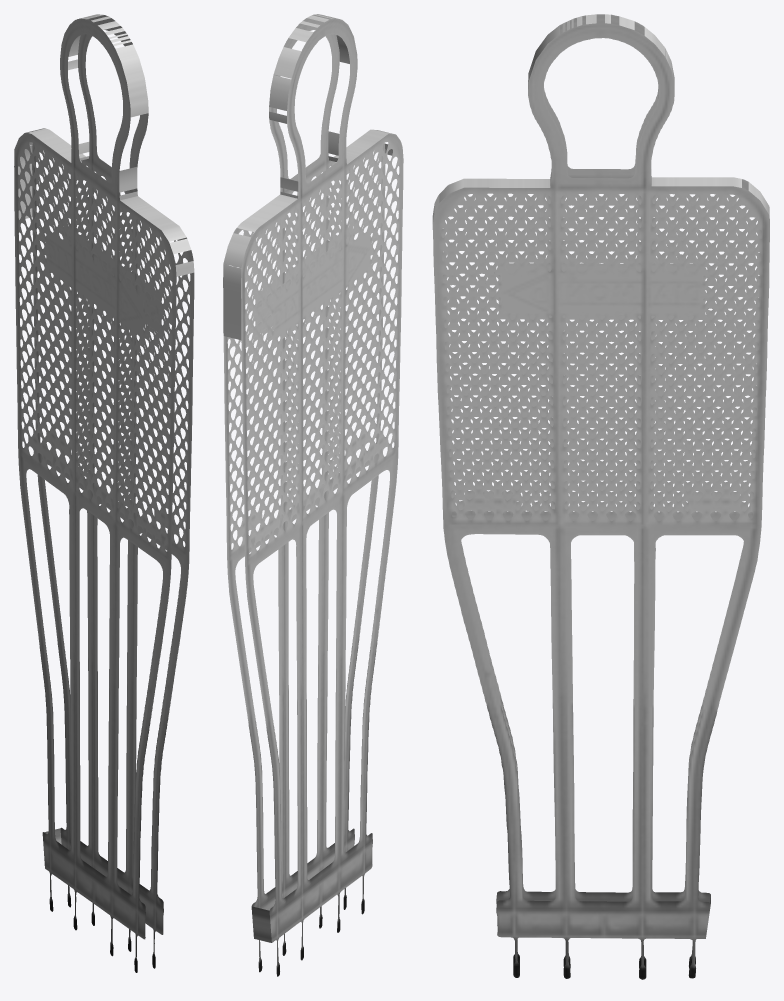
File: Mannequin.fbx
3 views of the same model, side by side, from view 1: azimuth 30°, elevation 25°; view 2: azimuth 150°, elevation 25°; view 3: azimuth 270°, elevation 25° (orthographic). The views are drawn at different scales.
Visible parts, largest first — view 1: pPlane1; view 2: pPlane1; view 3: pPlane1.
Part boxes in pixels (<box>): pPlane1: <box>14,14,194,972</box>; pPlane1: <box>223,14,403,976</box>; pPlane1: <box>432,14,769,979</box>.
Bounding box in the file's own units: 0.2 × 9.89 × 3.14.
Materials: 1 (1 with a texture image).
